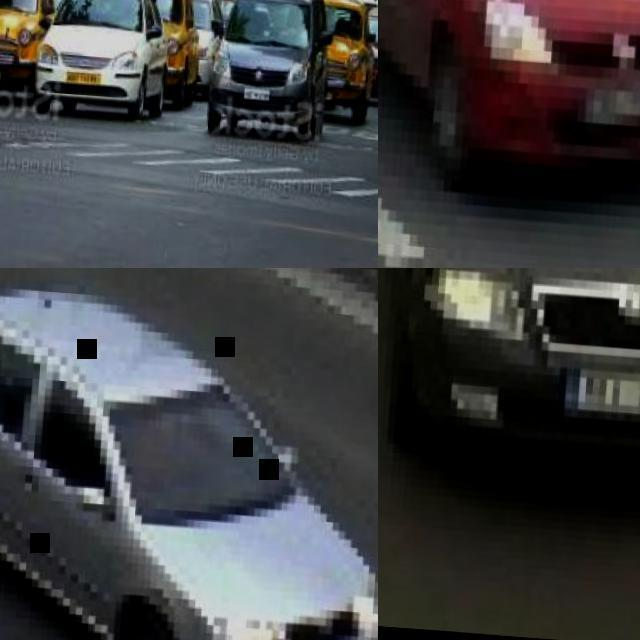car: (1, 324, 377, 639), (368, 0, 639, 184), (211, 3, 376, 138), (33, 0, 168, 120)
